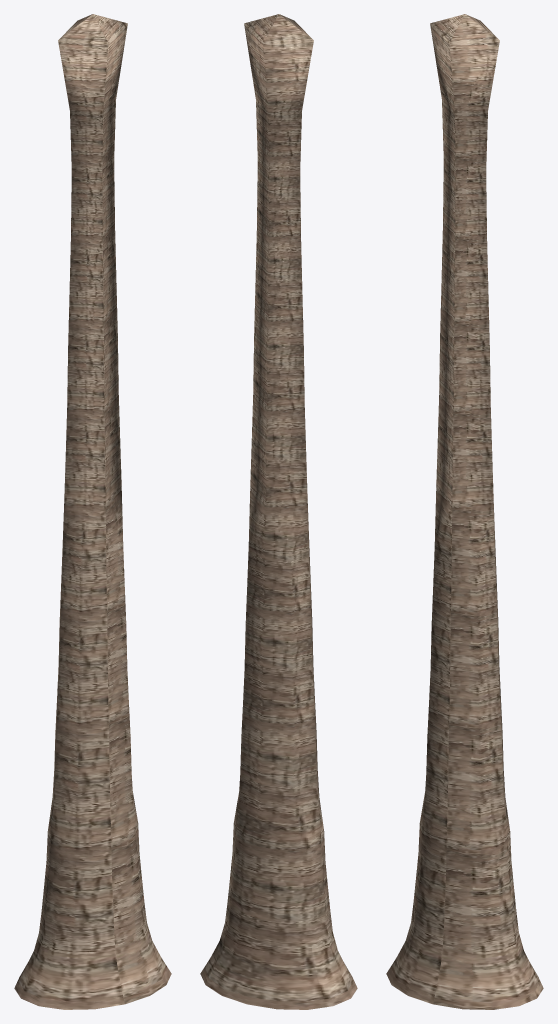
Rendered from m_palm_p2_6_trunk_0.001_lev2.glb.
The picture shows the model from 3 angles, left to right: view 1: azimuth 30°, elevation 25°; view 2: azimuth 150°, elevation 25°; view 3: azimuth 330°, elevation 25°; orthographic projection.
Visible parts, largest first — view 1: m_palm_p2_6_trunk_0.001_lev2; view 2: m_palm_p2_6_trunk_0.001_lev2; view 3: m_palm_p2_6_trunk_0.001_lev2.
Boxes of the visible parts, x1,y1,x2,y2 form: m_palm_p2_6_trunk_0.001_lev2: (14, 14, 171, 1009); m_palm_p2_6_trunk_0.001_lev2: (200, 14, 357, 1009); m_palm_p2_6_trunk_0.001_lev2: (386, 14, 543, 1009).
Size of the model in its own units: 0.4433 by 2.84 by 0.3401.
Materials: 1 (1 with a texture image).
